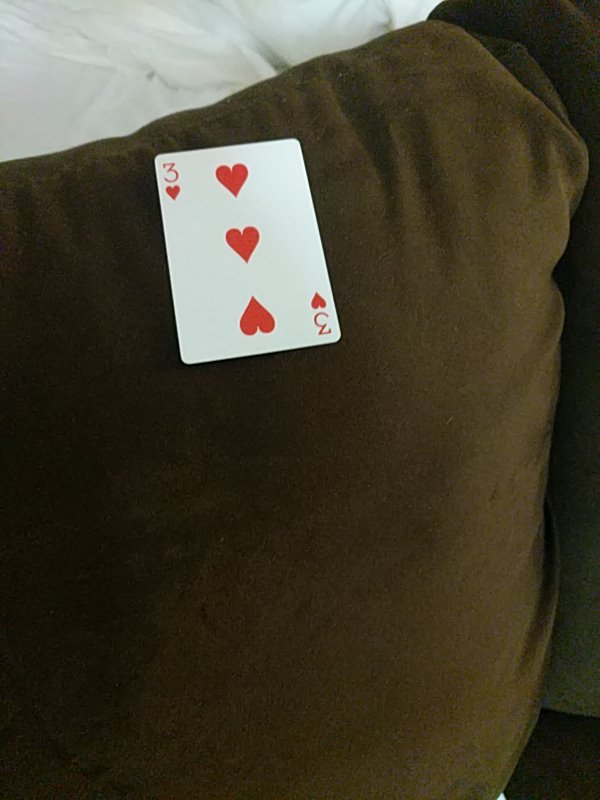Hearts: (155, 138, 342, 363)
